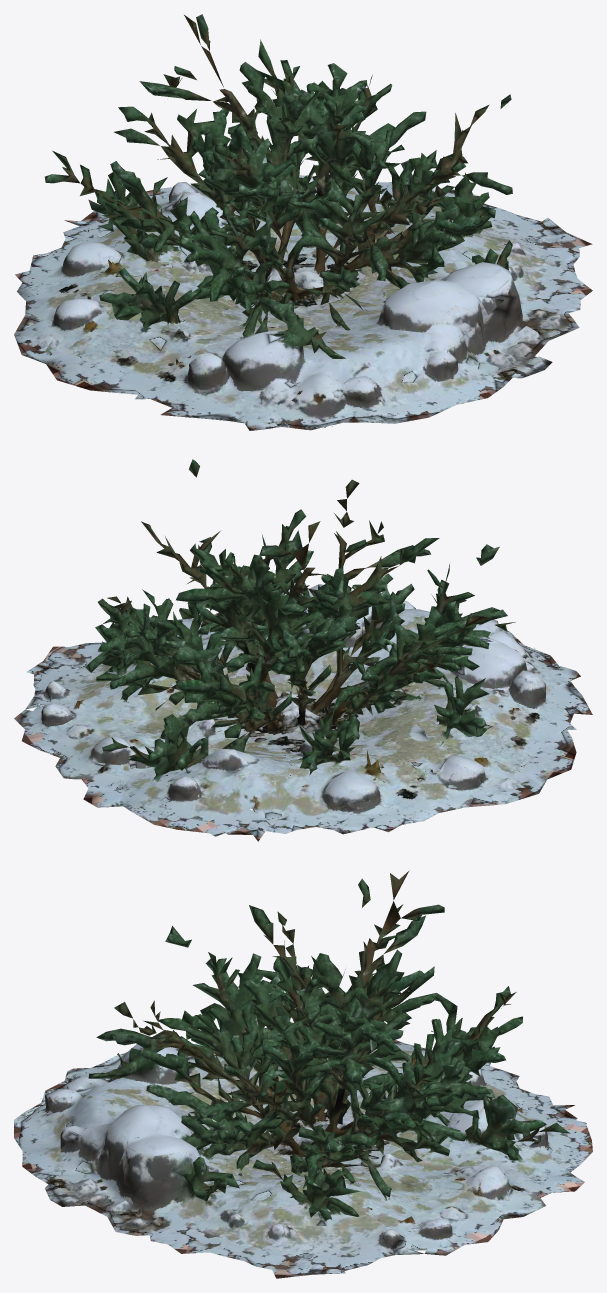
The model's file is snow-bush-5.glb.
3 views of the same model, one above another, from view 1: azimuth 30°, elevation 25°; view 2: azimuth 150°, elevation 25°; view 3: azimuth 270°, elevation 25° (orthographic). The views are drawn at different scales.
Visible parts, largest first — view 1: geometry_0; view 2: geometry_0; view 3: geometry_0.
Part boxes in pixels (x1,y1,x2,y2): geometry_0: [14, 14, 592, 430]; geometry_0: [14, 459, 592, 841]; geometry_0: [14, 870, 592, 1278].
Size of the model in its own units: 0.9542 by 0.4988 by 0.925.
Materials: 1 (1 with a texture image).
